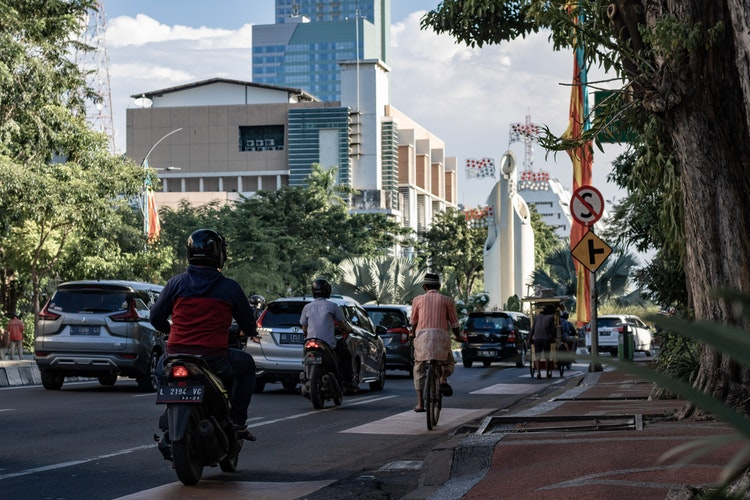helmet: (185, 224, 239, 278)
